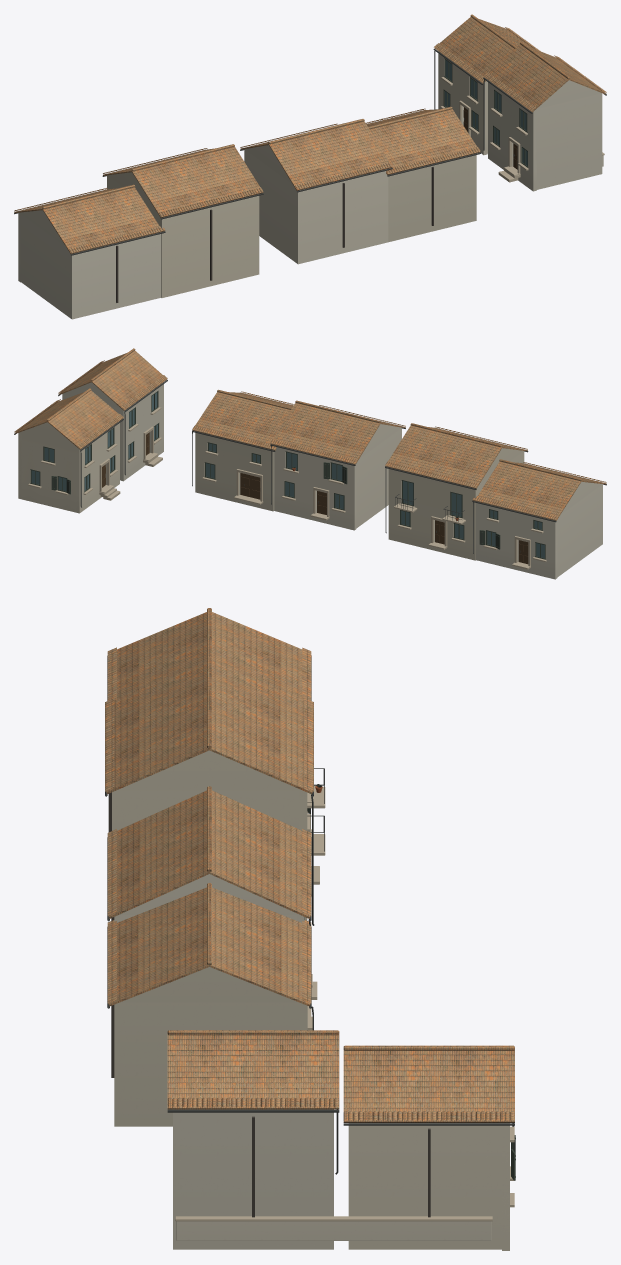
The model's file is duero76_fresnillo_caserio512.glb.
3 renders of one model, top to bottom at view 1: azimuth 30°, elevation 25°; view 2: azimuth 150°, elevation 25°; view 3: azimuth 270°, elevation 25°, orthographic. The views are drawn at different scales.
Visible parts, largest first — view 1: Fresnillo67_Fresnillo67_CC0_lime_render_interpretation, Fresnillo67_Fresnillo67_CC0_barrel_tiles, Fresnillo67_Fresnillo67_gutters_and_forged_rails, Fresnillo67_Fresnillo67_cut_limestone_frames, Fresnillo67_Fresnillo67_painted_timber_frames, Fresnillo67_Fresnillo67_recessed_glazing, Fresnillo67_Fresnillo67_interior_shadow; view 2: Fresnillo67_Fresnillo67_CC0_lime_render_interpretation, Fresnillo67_Fresnillo67_CC0_barrel_tiles, Fresnillo67_Fresnillo67_cut_limestone_frames, Fresnillo67_Fresnillo67_painted_timber_frames, Fresnillo67_Fresnillo67_recessed_glazing, Fresnillo67_Fresnillo67_gutters_and_forged_rails, Fresnillo67_Fresnillo67_timber_doors; view 3: Fresnillo67_Fresnillo67_CC0_barrel_tiles, Fresnillo67_Fresnillo67_CC0_lime_render_interpretation, Fresnillo67_Fresnillo67_cut_limestone_frames, Fresnillo67_Fresnillo67_gutters_and_forged_rails, Fresnillo67_Fresnillo67_interior_shadow.
Part boxes in pixels (x1,y1,x2,y2): Fresnillo67_Fresnillo67_CC0_lime_render_interpretation: [18, 52, 603, 319]; Fresnillo67_Fresnillo67_CC0_barrel_tiles: [14, 14, 606, 253]; Fresnillo67_Fresnillo67_gutters_and_forged_rails: [14, 48, 606, 255]; Fresnillo67_Fresnillo67_cut_limestone_frames: [440, 77, 604, 182]; Fresnillo67_Fresnillo67_painted_timber_frames: [443, 58, 527, 167]; Fresnillo67_Fresnillo67_recessed_glazing: [445, 60, 527, 165]; Fresnillo67_Fresnillo67_interior_shadow: [116, 167, 433, 302]; Fresnillo67_Fresnillo67_CC0_lime_render_interpretation: [18, 382, 602, 579]; Fresnillo67_Fresnillo67_CC0_barrel_tiles: [14, 348, 606, 520]; Fresnillo67_Fresnillo67_cut_limestone_frames: [28, 407, 546, 569]; Fresnillo67_Fresnillo67_painted_timber_frames: [30, 391, 545, 559]; Fresnillo67_Fresnillo67_recessed_glazing: [31, 392, 544, 558]; Fresnillo67_Fresnillo67_gutters_and_forged_rails: [14, 380, 606, 553]; Fresnillo67_Fresnillo67_timber_doors: [102, 432, 528, 564]; Fresnillo67_Fresnillo67_CC0_barrel_tiles: [105, 608, 514, 1122]; Fresnillo67_Fresnillo67_CC0_lime_render_interpretation: [112, 750, 509, 1250]; Fresnillo67_Fresnillo67_cut_limestone_frames: [175, 785, 514, 1221]; Fresnillo67_Fresnillo67_gutters_and_forged_rails: [105, 655, 515, 1174]; Fresnillo67_Fresnillo67_interior_shadow: [108, 792, 430, 1217].
Bounding box in the file's own units: 46.44 × 8.84 × 16.84.
10 materials, 2 textured.
